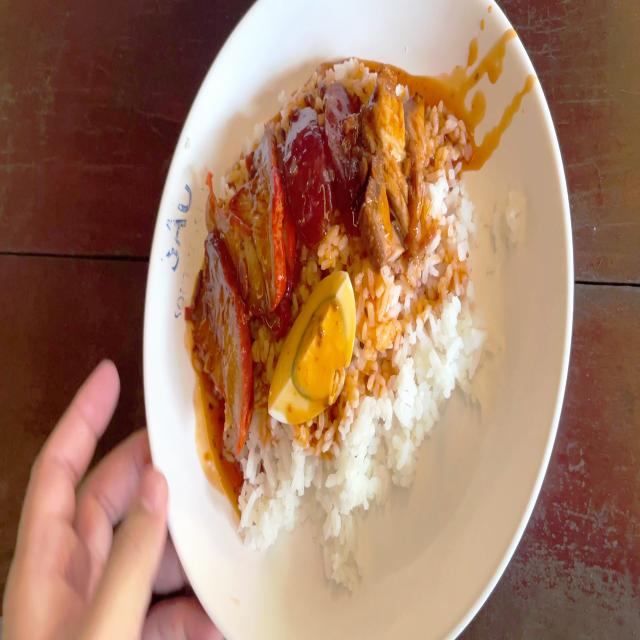boiled_egg: (274, 273, 348, 420)
chainese_sausage: (288, 85, 365, 239)
crispy_pork: (368, 80, 426, 278)
red_pork: (204, 134, 280, 431)
red_pork_and_crispy_pork: (198, 67, 486, 545)
rice: (356, 277, 476, 443), (240, 425, 394, 547), (428, 108, 473, 270)
